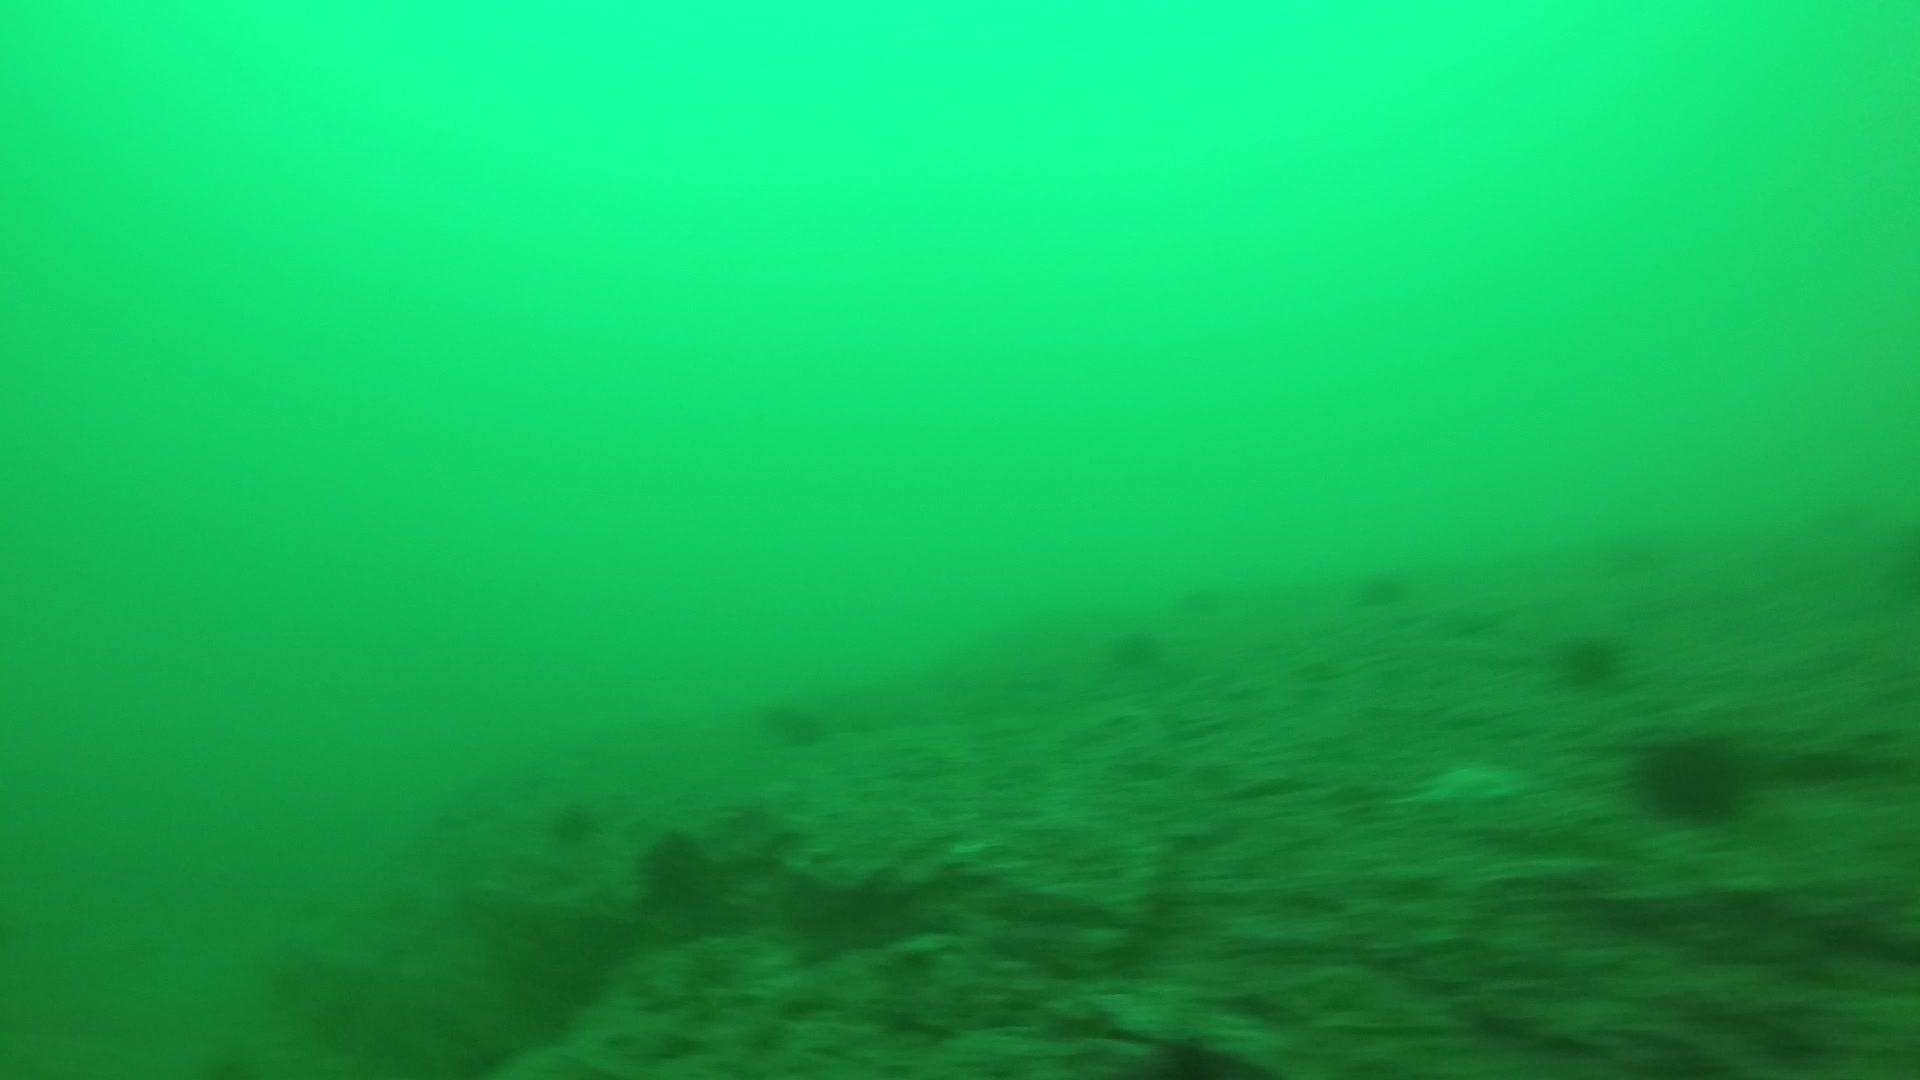echinus: (1630, 727, 1754, 829), (633, 825, 727, 918), (1547, 622, 1633, 694), (760, 688, 833, 752), (1101, 618, 1170, 676), (541, 793, 605, 851), (1348, 558, 1415, 613)
starfish: (1408, 753, 1542, 814)
